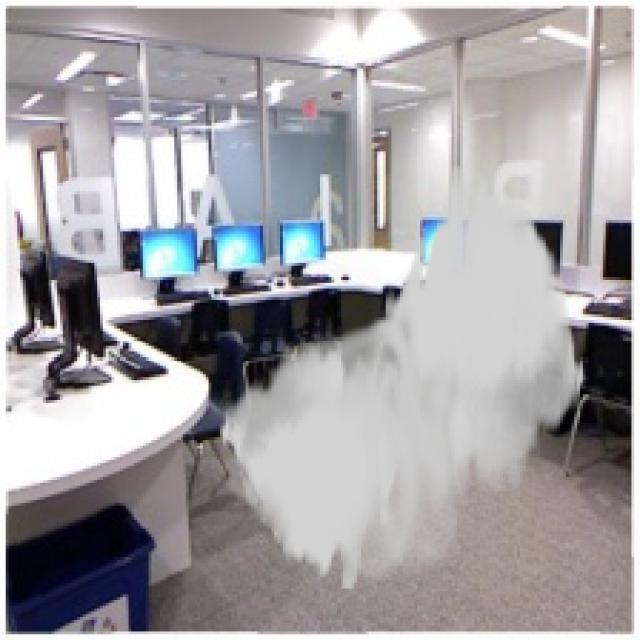smoke: (217, 166, 586, 591)
